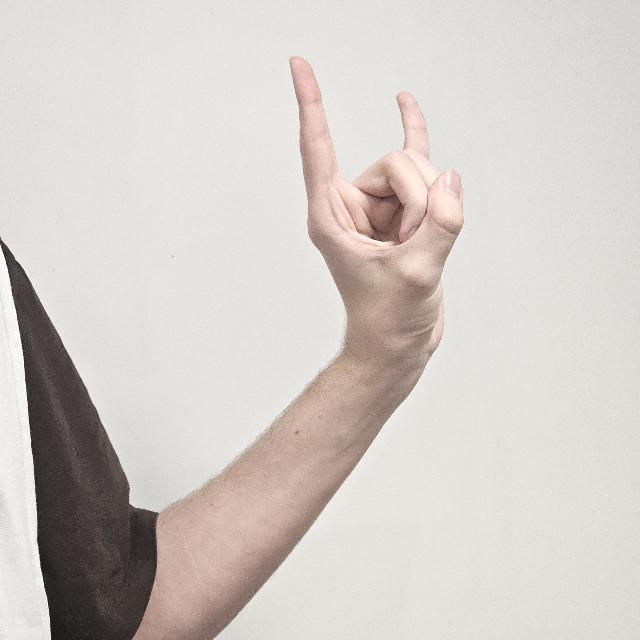L: (286, 56, 464, 394)
